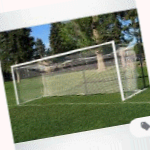goals: (10, 40, 144, 106)
